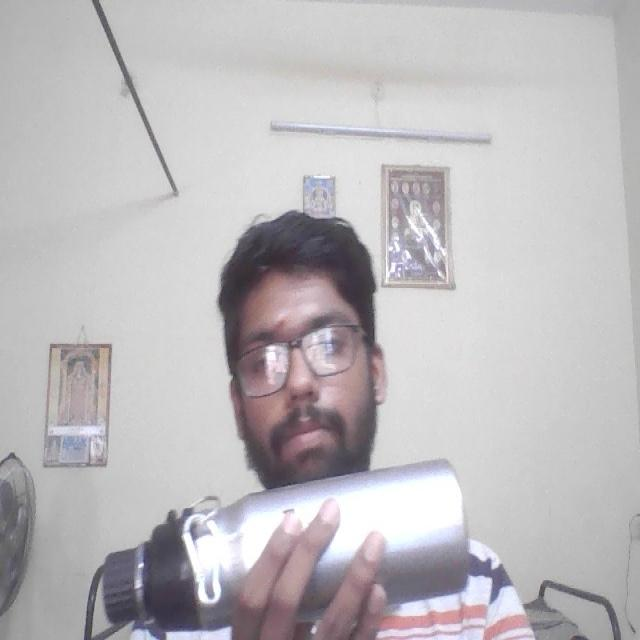Drinking: (97, 436, 469, 640)
